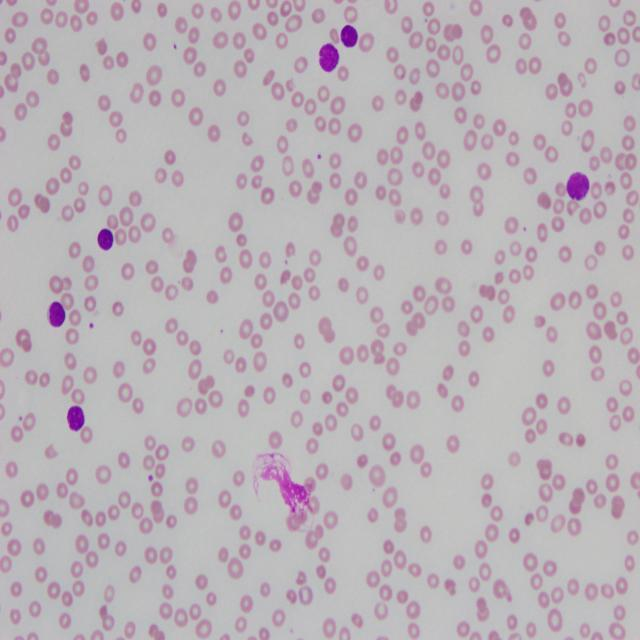cell: (566, 172, 590, 200), (319, 43, 339, 72), (68, 405, 85, 432), (48, 302, 65, 327), (341, 25, 358, 47), (98, 228, 114, 250)
